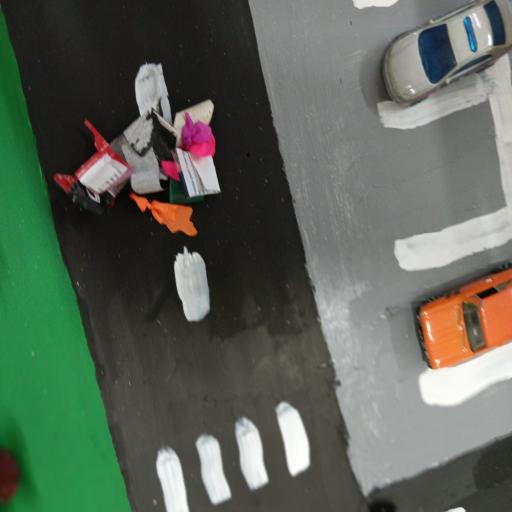trash: (49, 56, 238, 241)
